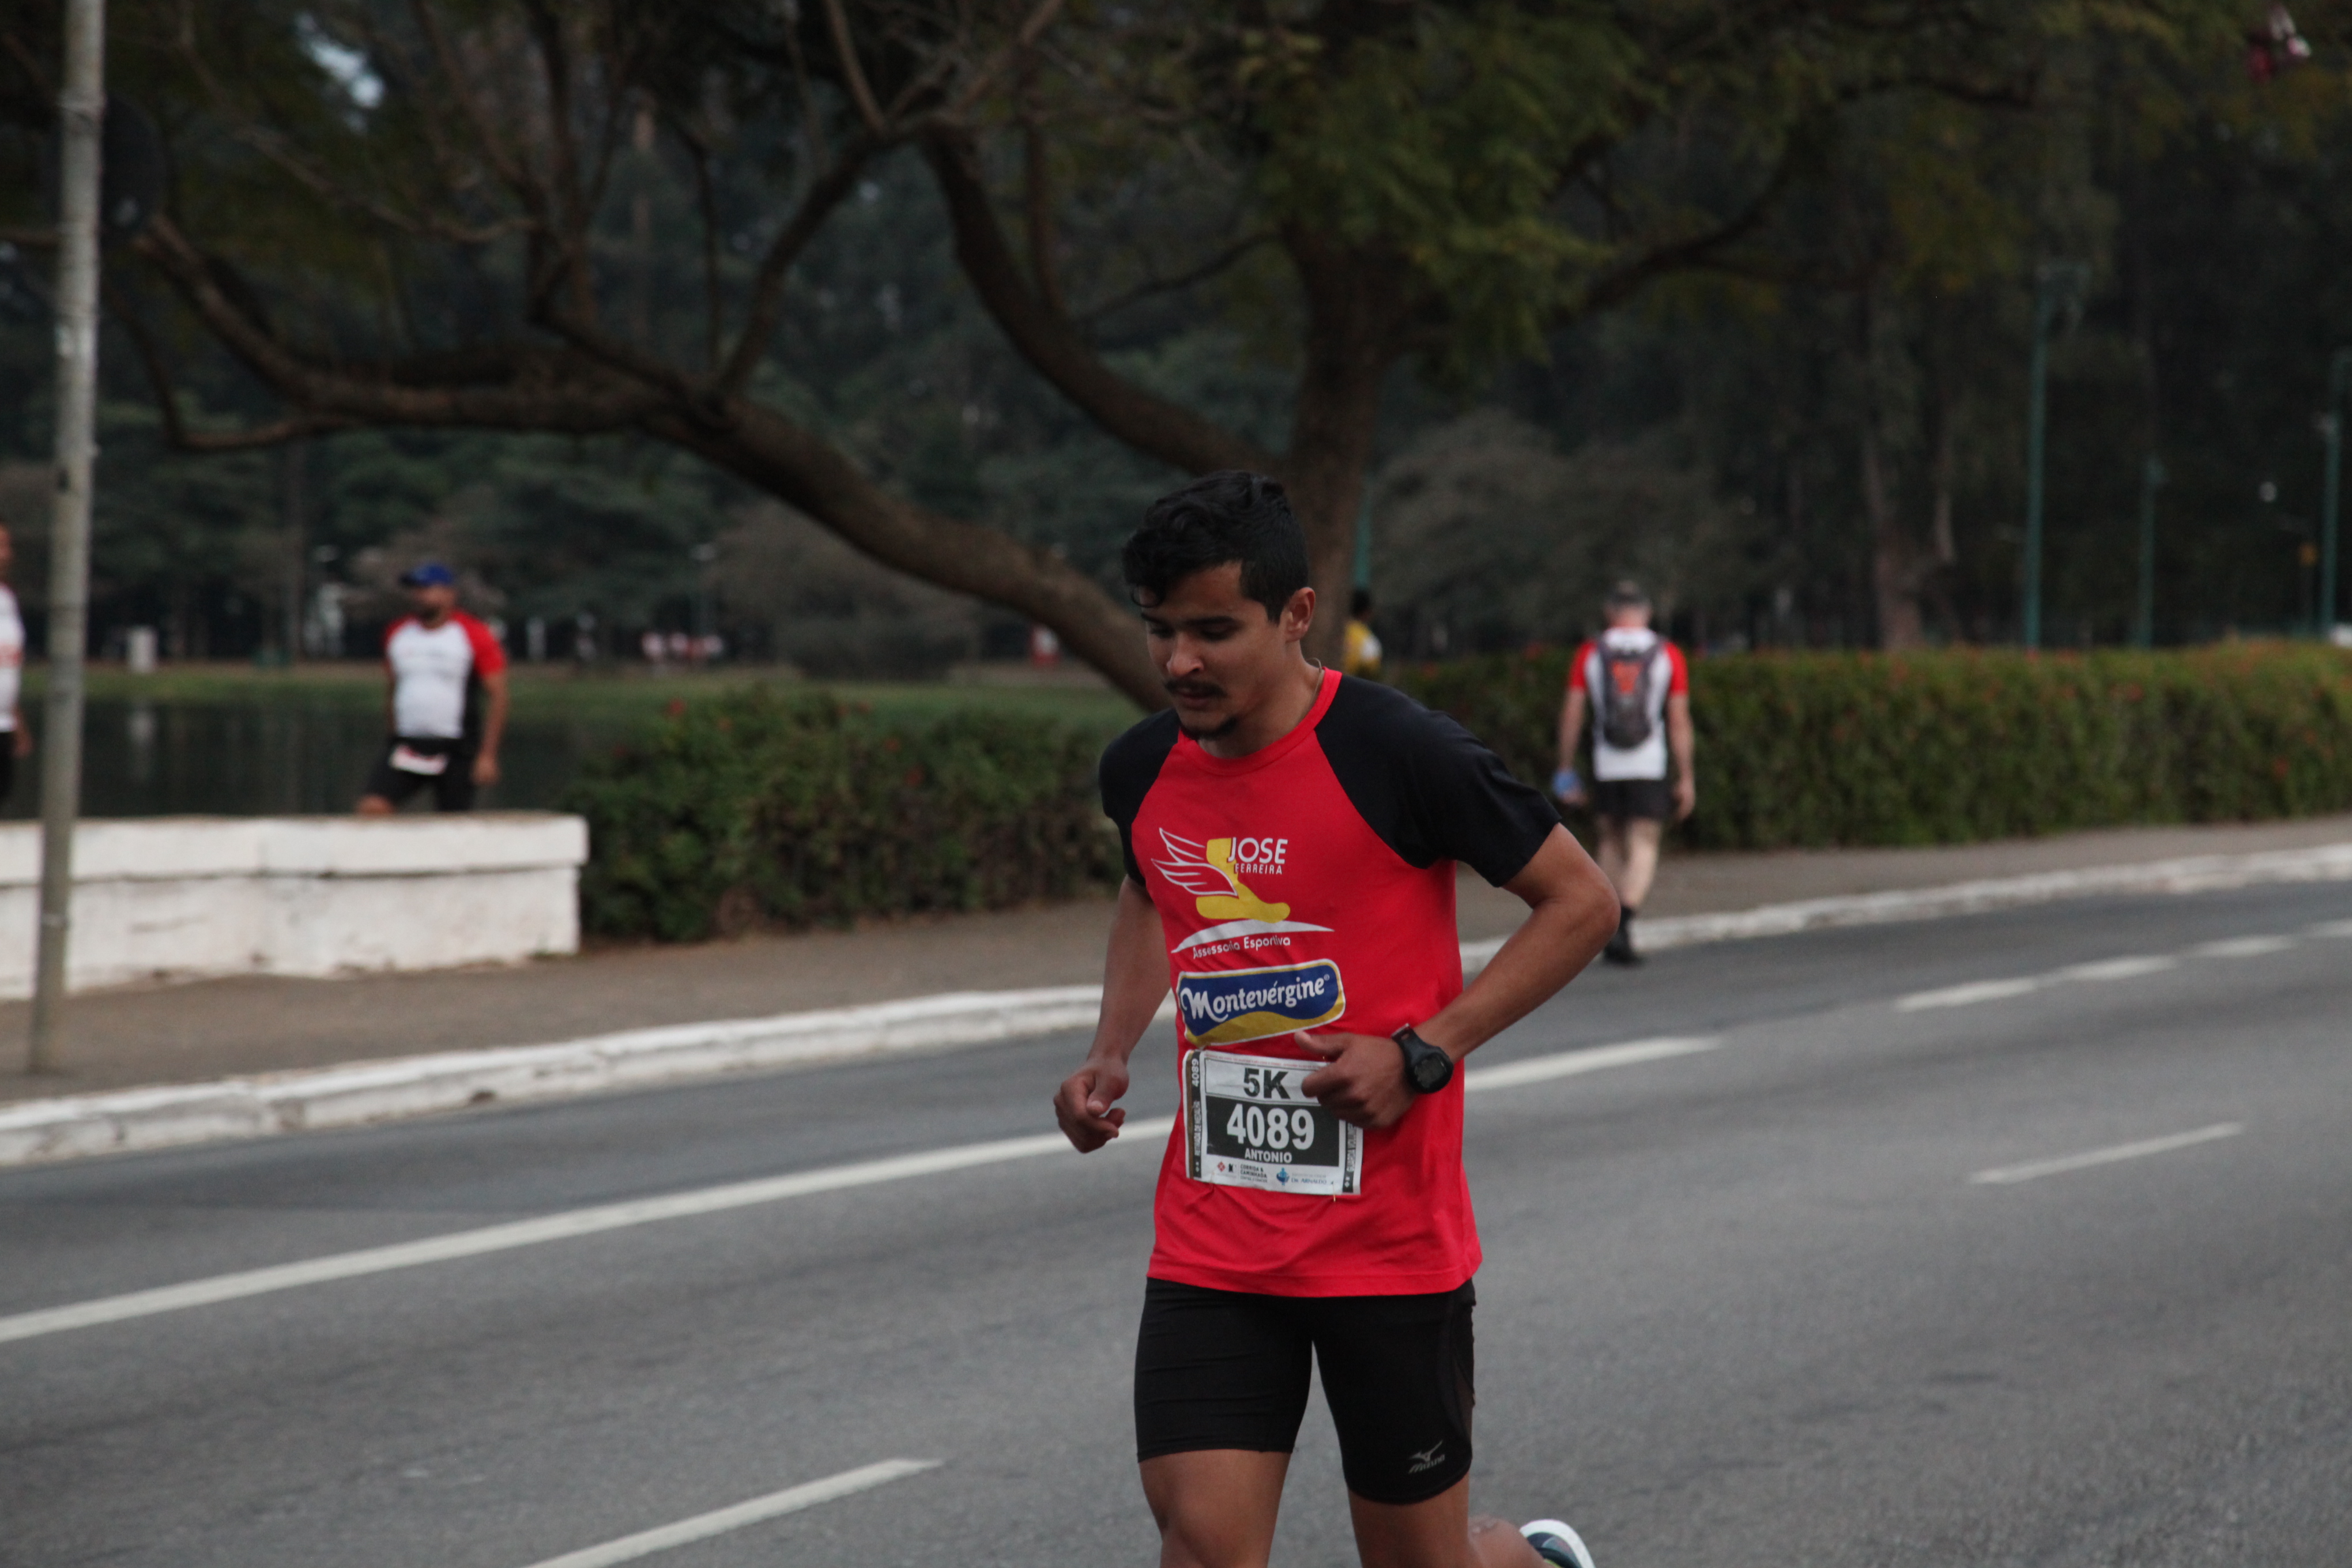bibtag: (1174, 1022, 1372, 1207)
